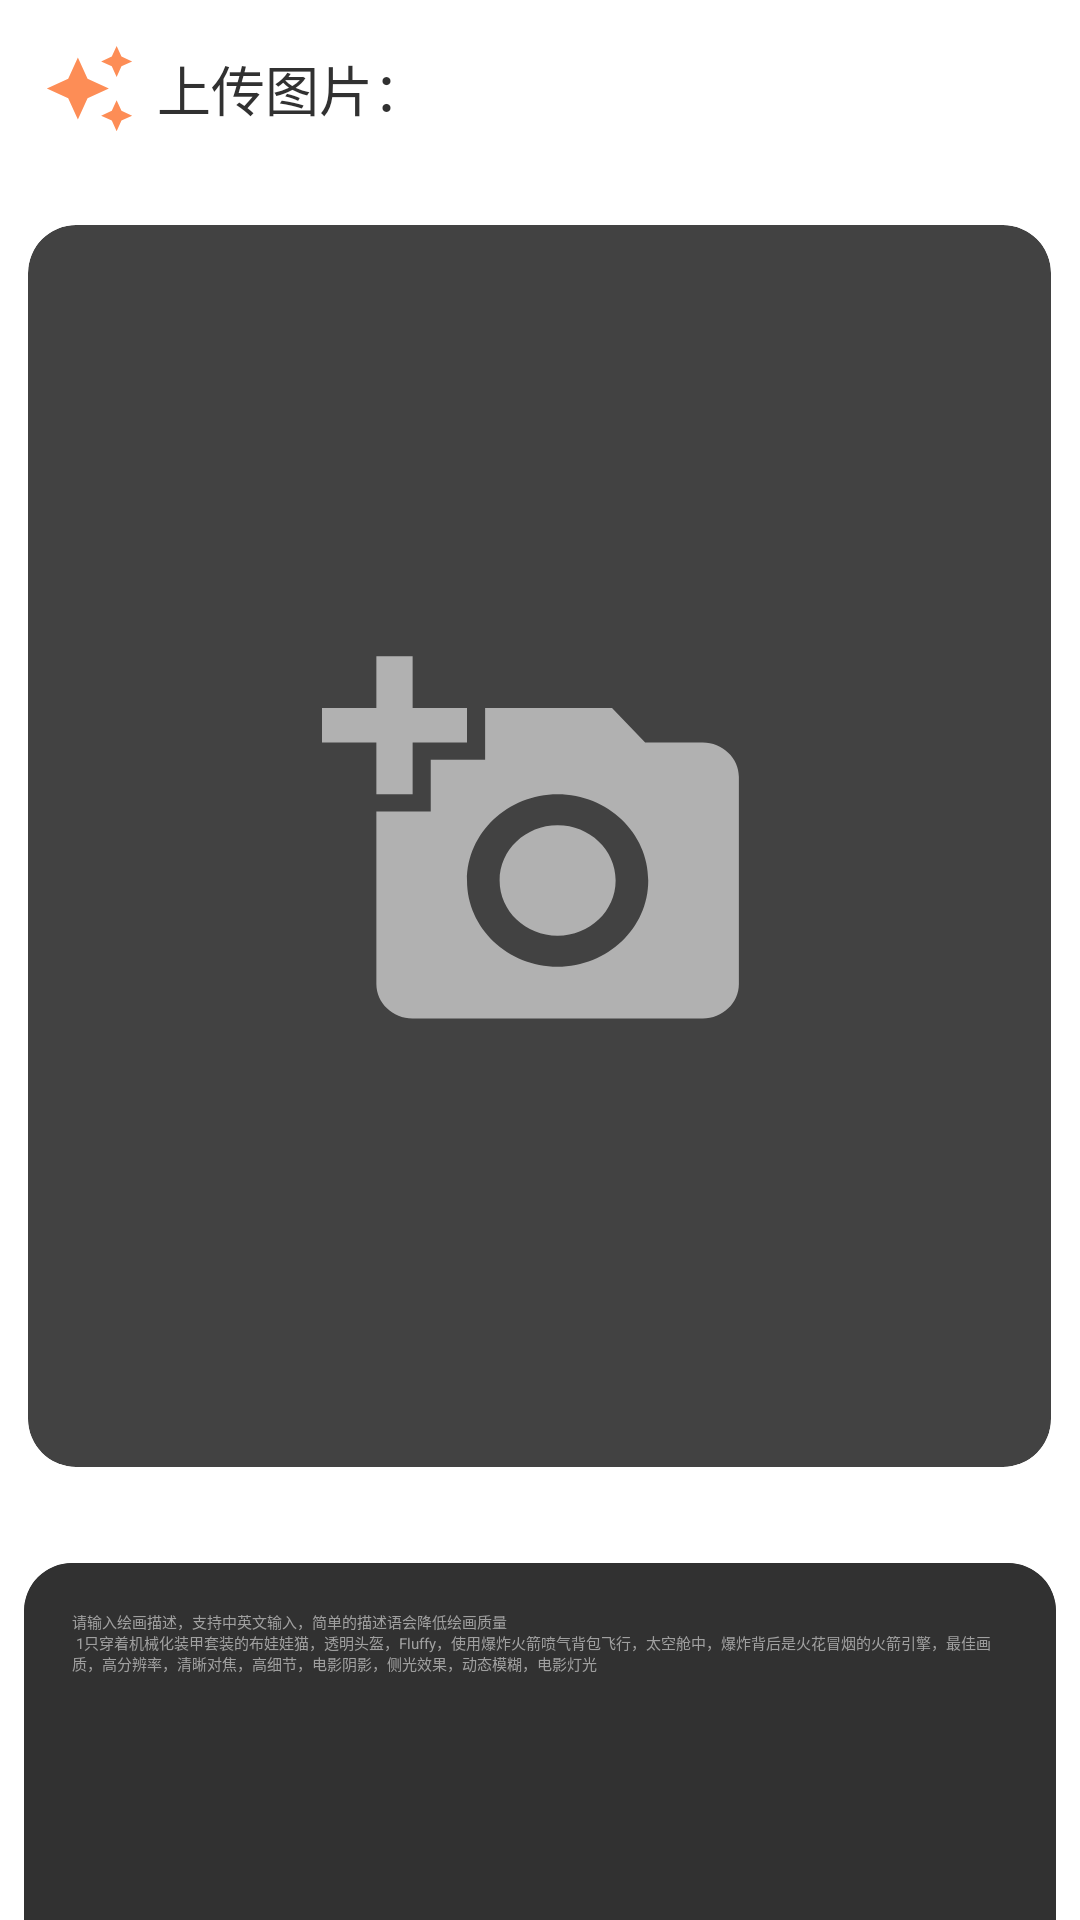

Screen size 1080px×1920px. Icon name, then its box in pixels as (x1, y1, x2, y2):
auto awesome: (47, 46, 132, 131)
